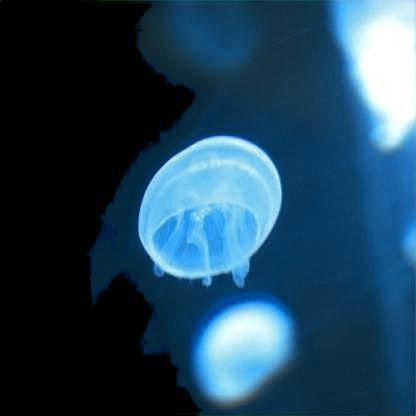Speckle: (135, 136, 283, 285), (190, 297, 301, 409), (328, 0, 412, 144), (165, 1, 261, 69)
